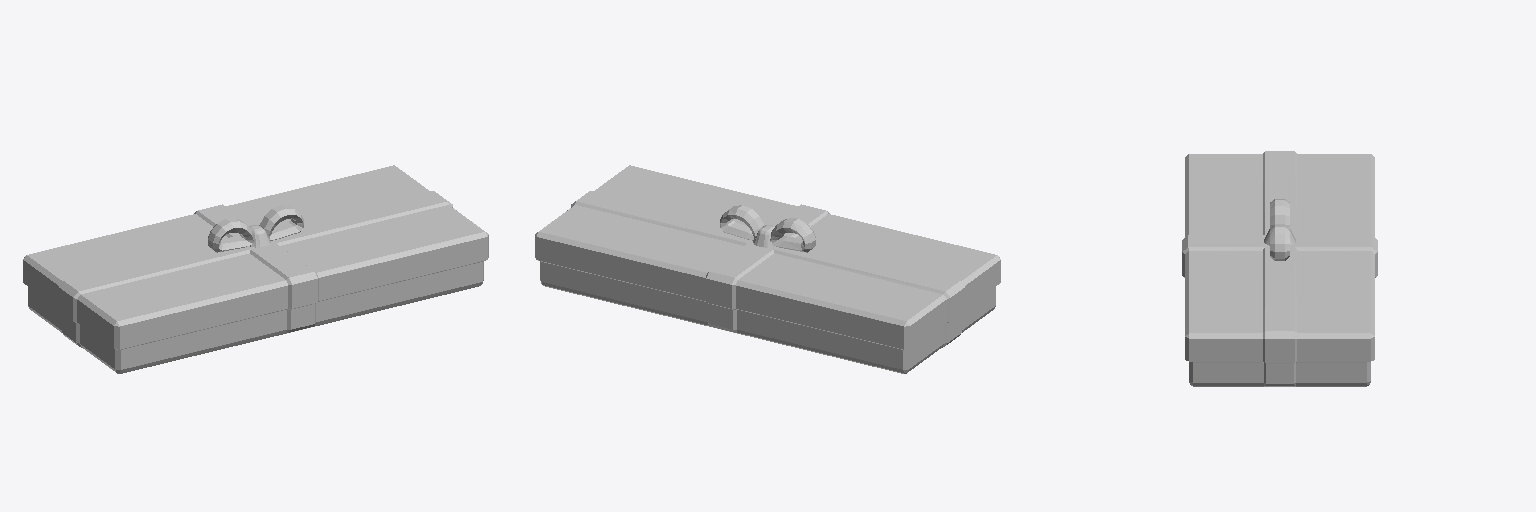
File: present_F_red.obj
3 renders of one model, left to right at view 1: azimuth 30°, elevation 25°; view 2: azimuth 150°, elevation 25°; view 3: azimuth 270°, elevation 25°, orthographic.
Visible parts, largest first — view 1: present_F_red; view 2: present_F_red; view 3: present_F_red.
Part boxes in pixels (x1,y1,x2,y2): present_F_red: (23,165,488,373); present_F_red: (535,165,1000,373); present_F_red: (1182,151,1377,386).
Bounding box in the file's own units: 2.16 × 0.4617 × 0.9638.